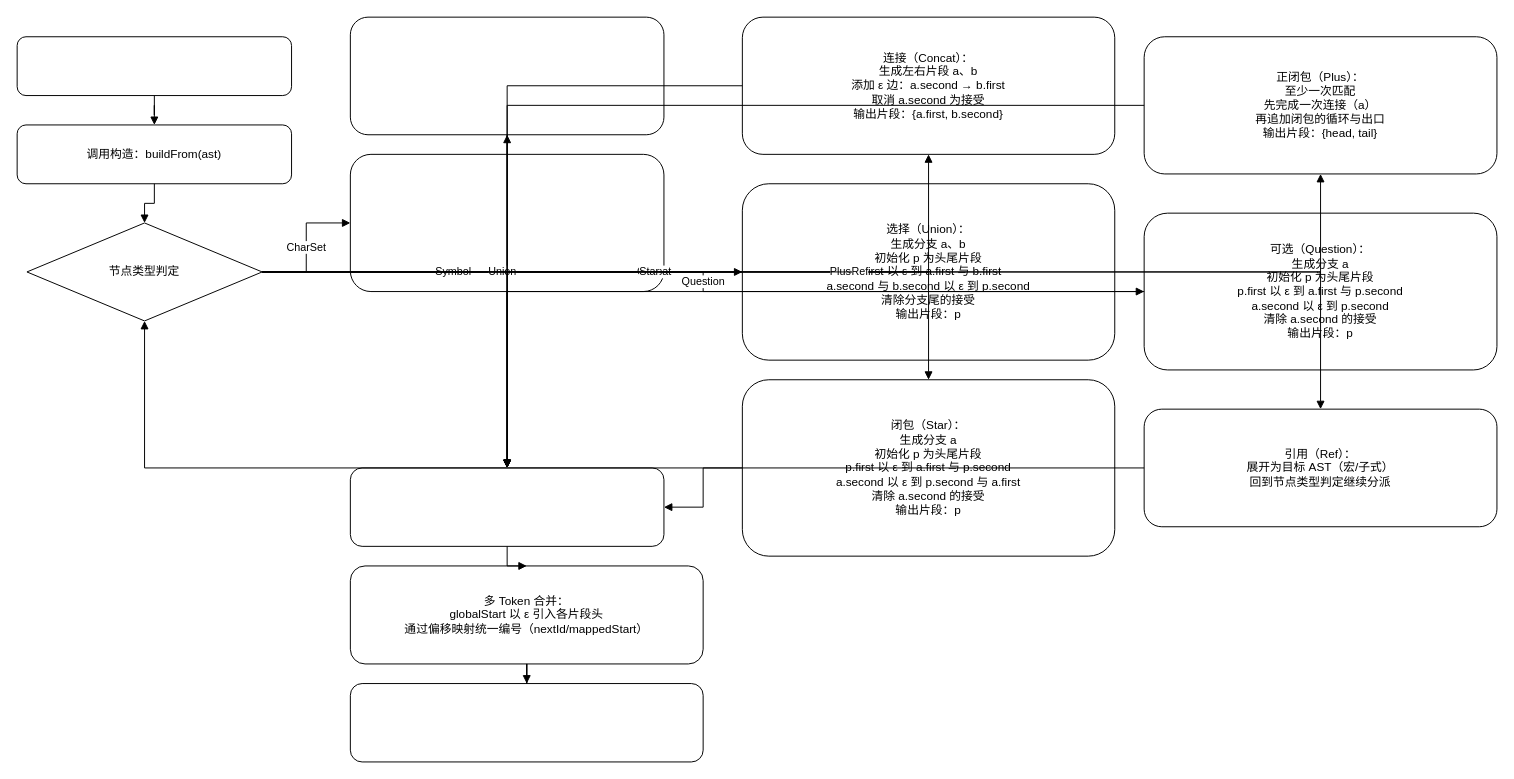
The diagram is 1514 pixels wide and 779 high, and some of its shapes have lost their labels. The shapes that lost their labels are listed below. From the top down, each one's box as (x1, y1, x2, y2) in pixels, then its label:
(16, 36, 292, 96): 开始：输入 AST 根与字母表
(349, 16, 664, 135): 原子片段： 初始化 p 为头尾片段 添加非 ε 字符边：s→t 更新字母表：加入该字符 输出片段：p
(349, 153, 664, 292): 字符类片段： 初始化 p 为头尾片段 为集合内每字符添加非 ε 边：s→t 更新字母表：加入集合标签/字符 输出片段：p
(349, 467, 664, 546): 返回片段：包含 first（片段头）与 second（片段尾）
(349, 683, 703, 762): 输出 NFA：起始/接受标记同步；字母表 alpha 同步
